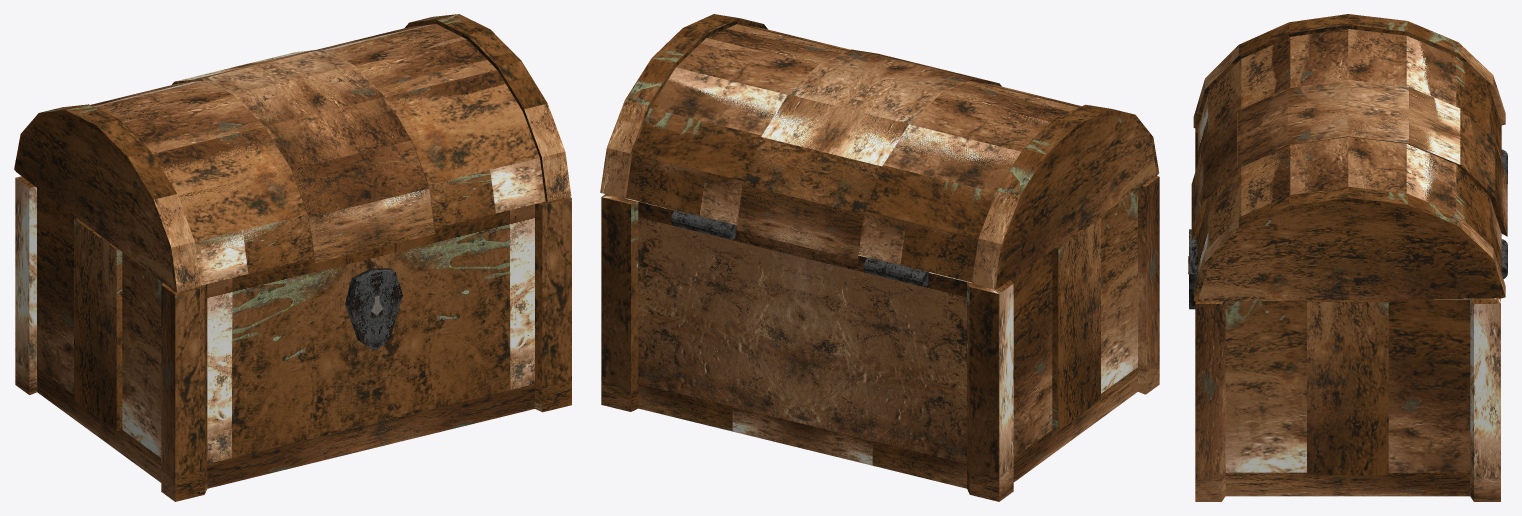
Rendered from SM_Treasurechest.fbx.
The picture shows the model from 3 angles, left to right: view 1: azimuth 30°, elevation 25°; view 2: azimuth 150°, elevation 25°; view 3: azimuth 270°, elevation 25°; orthographic projection. The views are drawn at different scales.
Parts seen in each view (by area): view 1: Plane.001; view 2: Plane.001; view 3: Plane.001.
Part boxes in pixels (<box>): Plane.001: <box>14,14,571,501</box>; Plane.001: <box>600,14,1159,501</box>; Plane.001: <box>1188,14,1507,501</box>.
Bounding box in the file's own units: 413 × 316 × 302.
3 materials, 3 textured.
